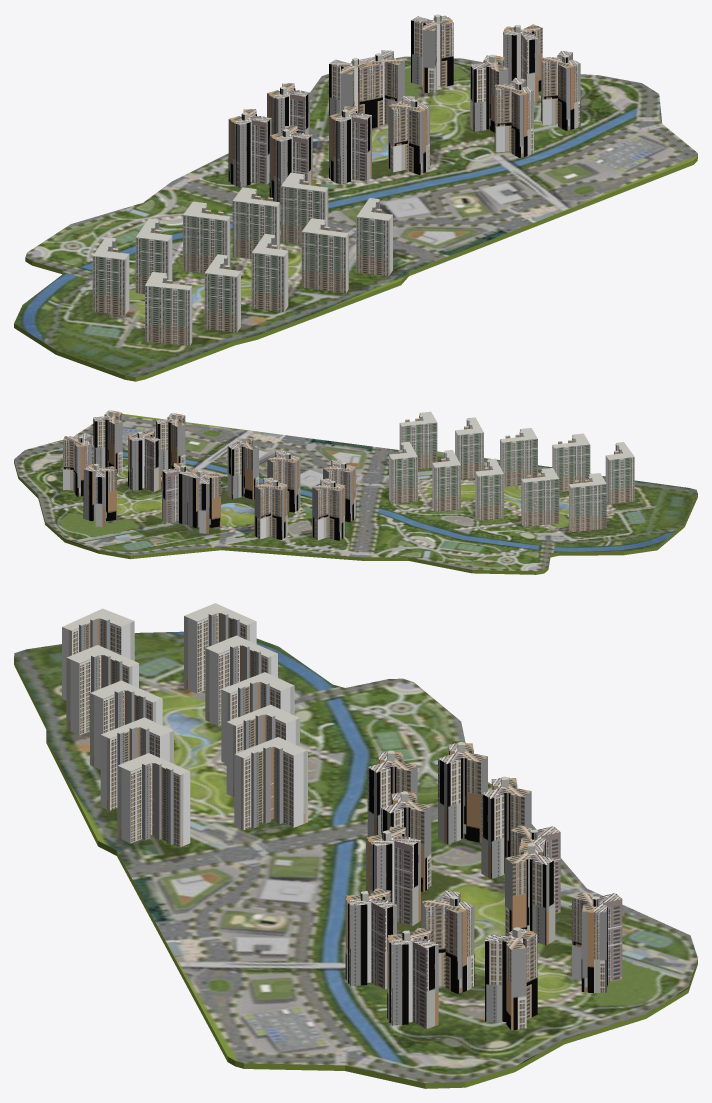
The model's file is ICJ00106_B.glb.
3 renders of one model, top to bottom at view 1: azimuth 30°, elevation 25°; view 2: azimuth 150°, elevation 25°; view 3: azimuth 270°, elevation 25°, orthographic. The views are drawn at different scales.
Parts seen in each view (by area): view 1: MainBuilding; view 2: MainBuilding; view 3: MainBuilding.
Part boxes in pixels (bbox=[...]): MainBuilding: bbox=[14, 14, 697, 381]; MainBuilding: bbox=[14, 410, 697, 574]; MainBuilding: bbox=[14, 603, 697, 1088].
Bounding box in the file's own units: 4.64 × 0.4448 × 2.96.
1 material, 1 textured.
